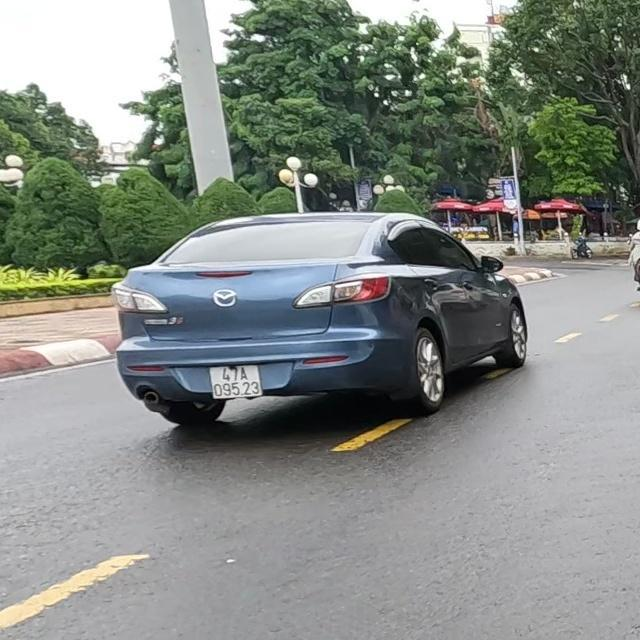car: (111, 214, 533, 433)
plate: (203, 356, 270, 404)
